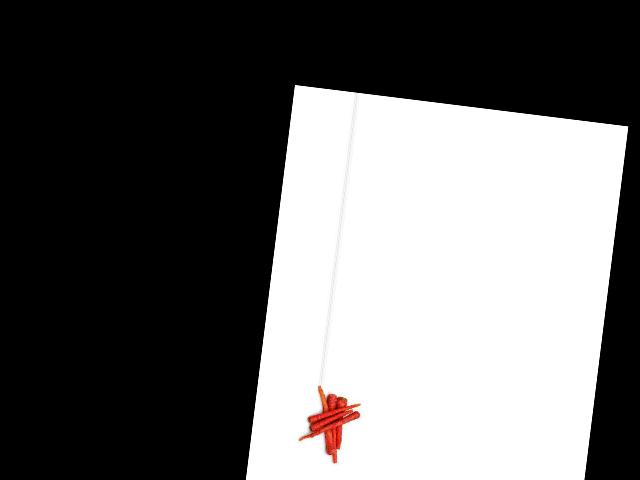carrot: (309, 396, 360, 426)
